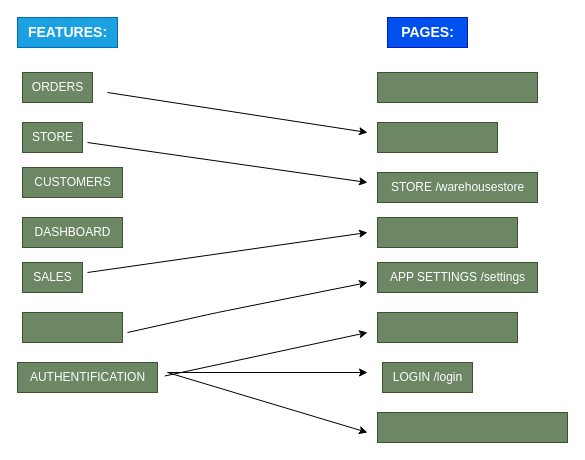
The diagram is 585 pixels wide and 460 high, and some of its shapes have lost their labels. Here are the shapes that lost their labels. From the top down, the centre of each, then its label:
point 457,87: DASHBOARD /dashboard
point 437,137: ORDERS /orders
point 447,232: SALES /sale/:orederId
point 72,327: APPSETTINGS
point 447,327: USER SIGN IN /users
point 472,427: ACCOUNT SETTINGS /account
